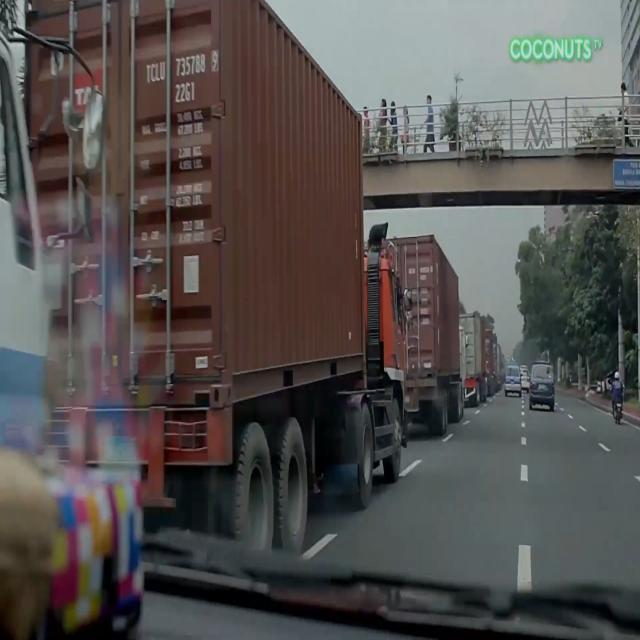truck: (23, 0, 415, 555), (0, 0, 102, 508), (391, 227, 469, 439), (460, 311, 490, 409)
